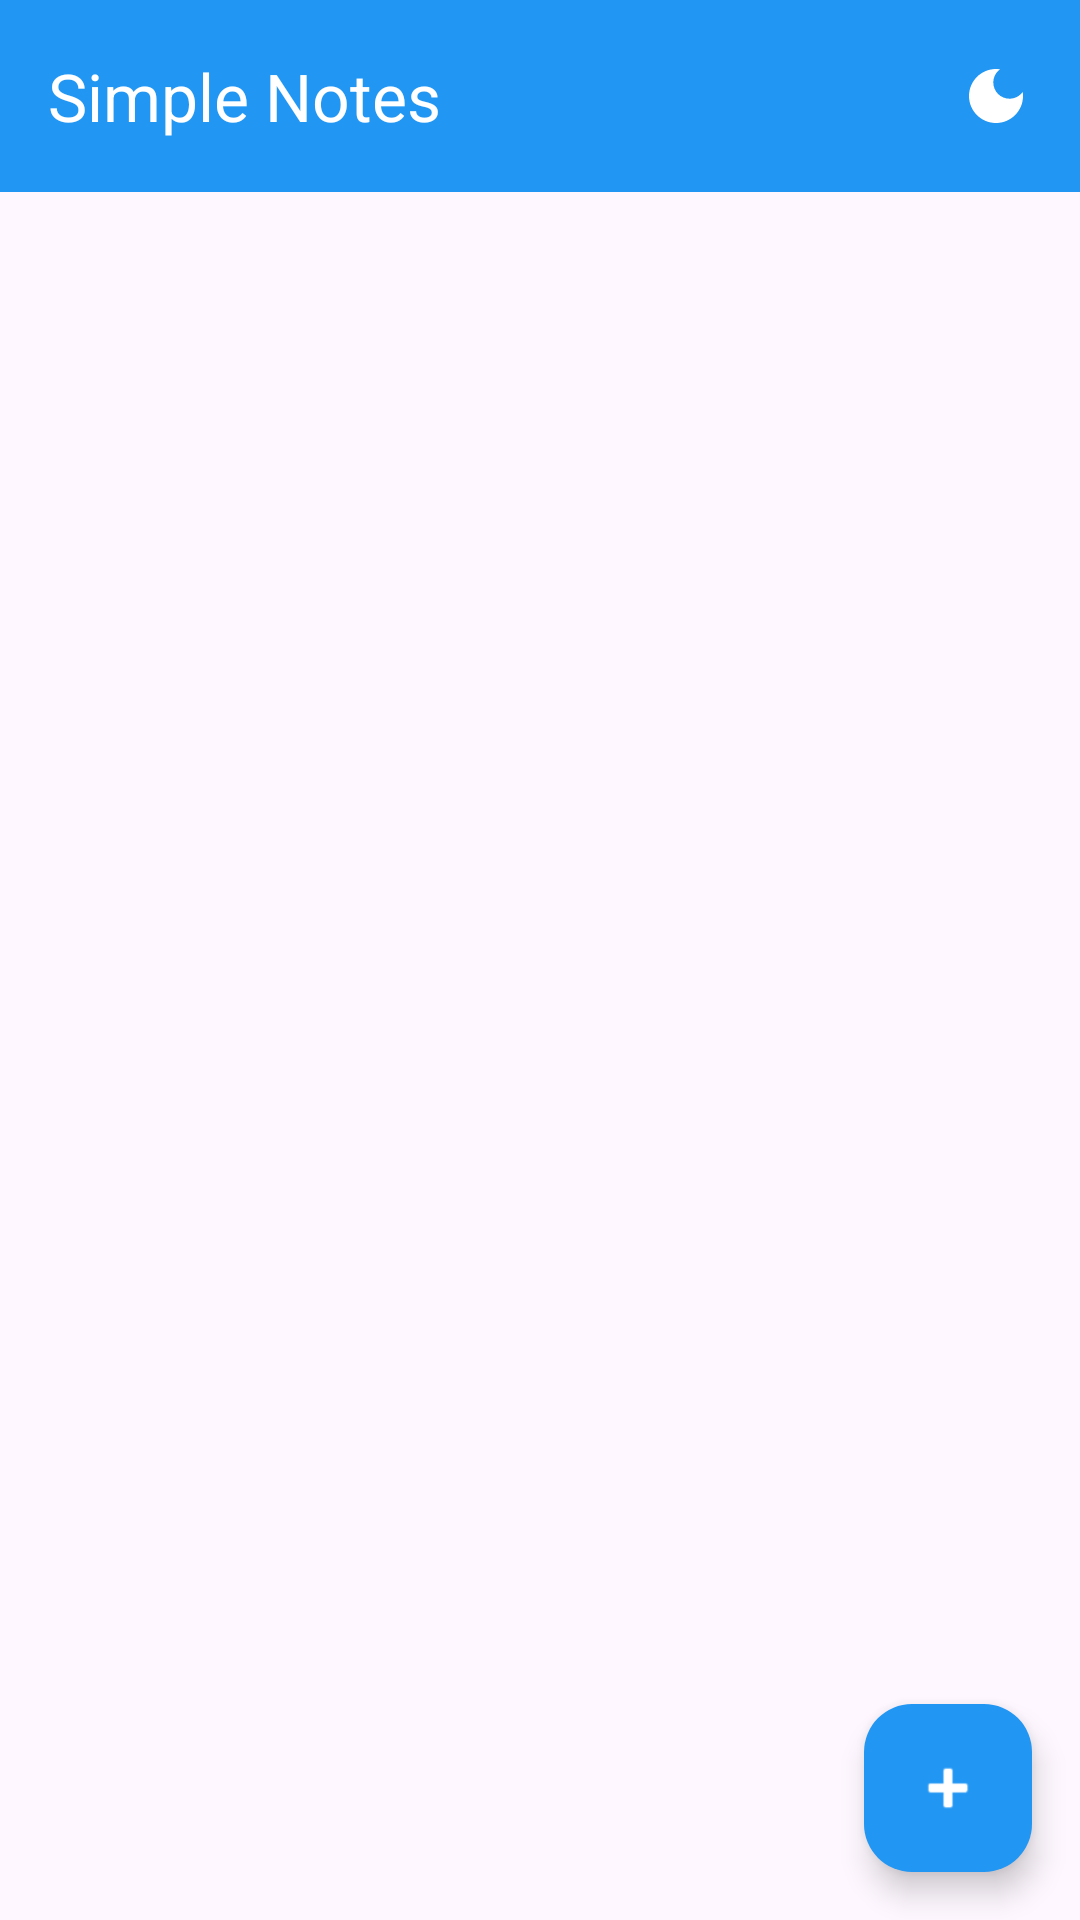

Icon click points for this 1080 × 1920 phone screenshot, format (x,y):
Add New Note: (948,1788)
Change theme: (996,96)
